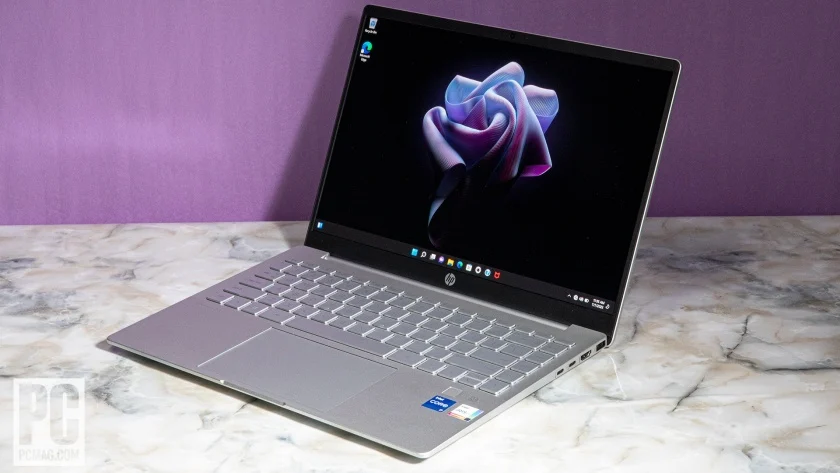laptop: (98, 5, 683, 463)
